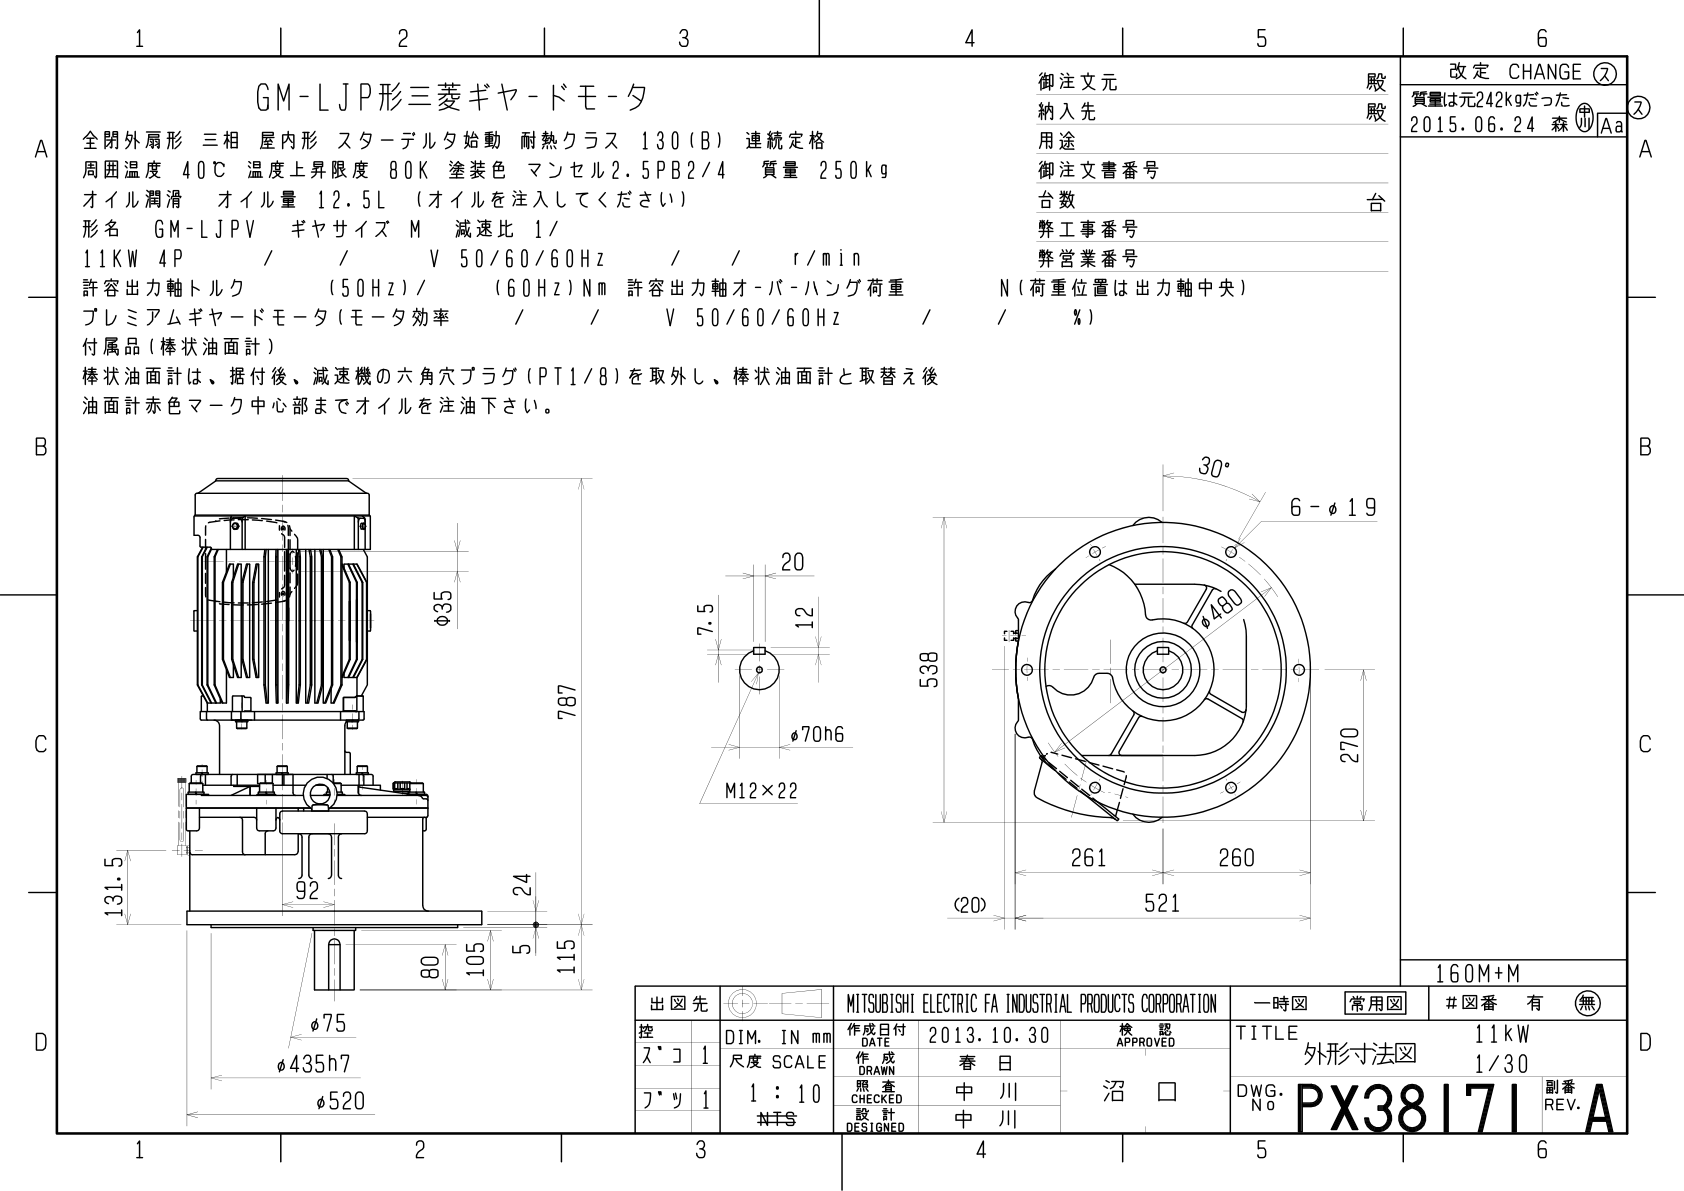GM_LJP_屋内_三相_立: (1, 1, 1671, 1183)
